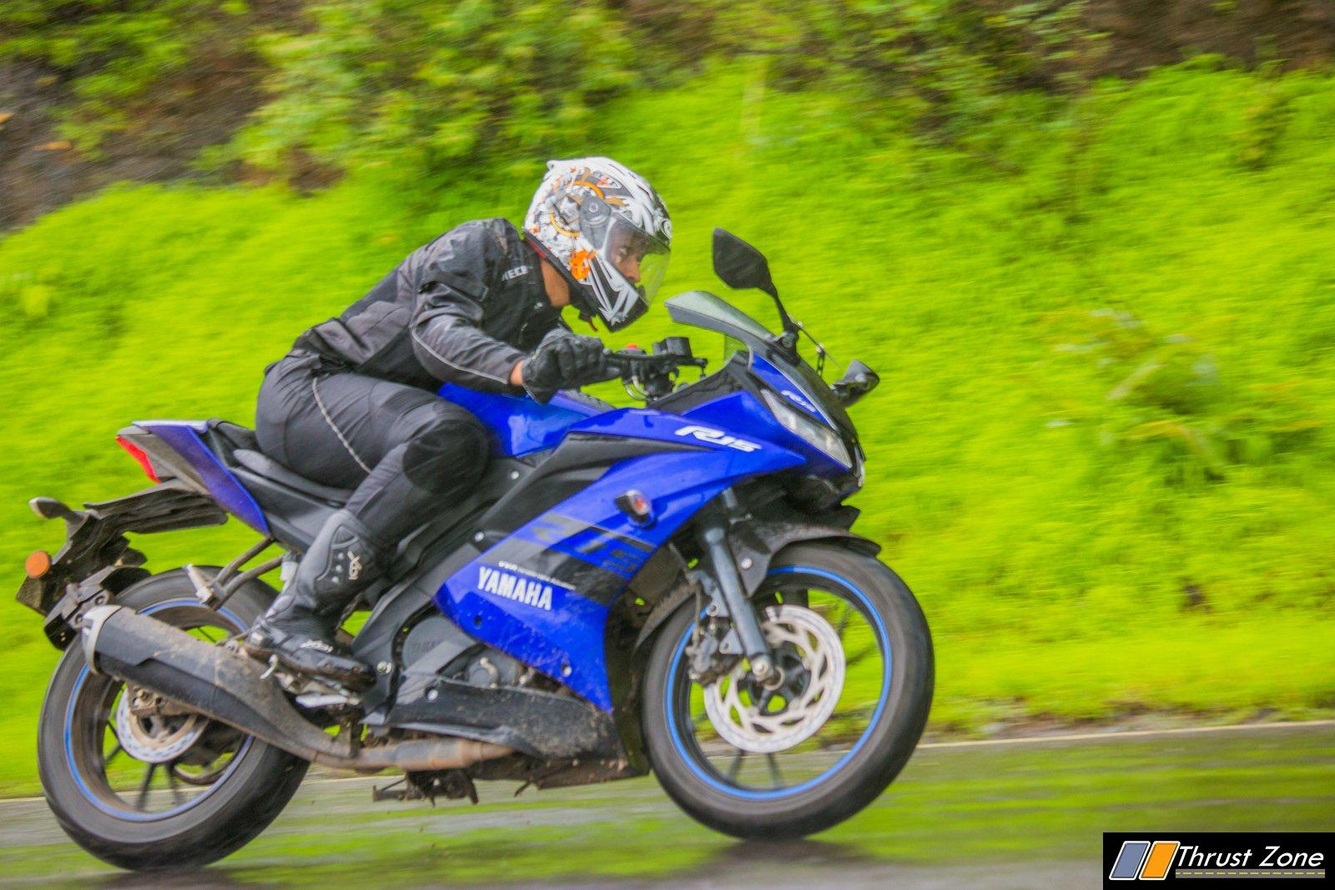helmet: (503, 134, 688, 330)
